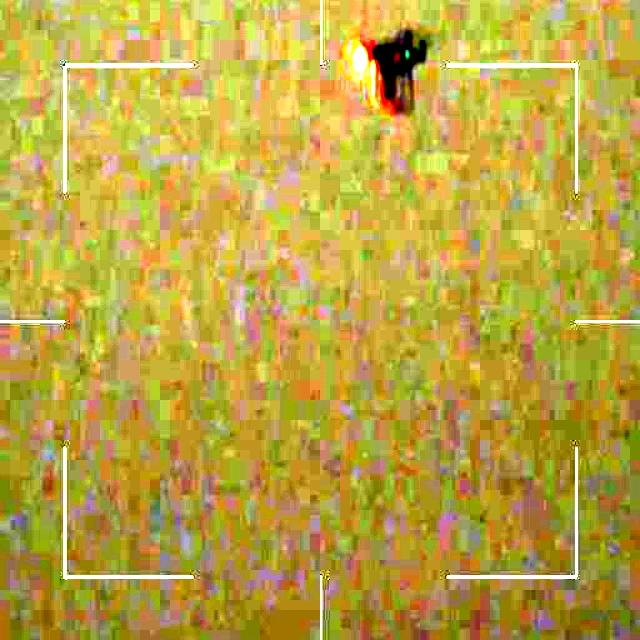bird: (341, 20, 435, 122)
